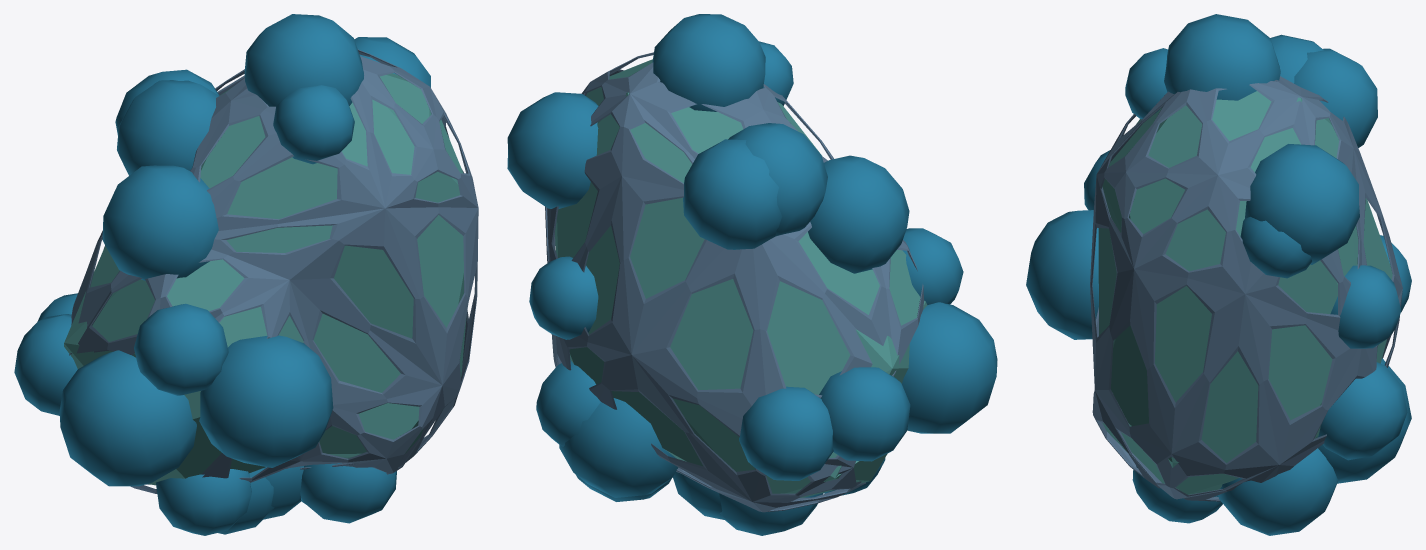
Rendered from glueBush9.fbx.
3 views of the same model, side by side, from view 1: azimuth 30°, elevation 25°; view 2: azimuth 150°, elevation 25°; view 3: azimuth 270°, elevation 25° (orthographic). The views are drawn at different scales.
Visible parts, largest first — view 1: Mball.011; view 2: Mball.011; view 3: Mball.011.
Boxes of the visible parts, box(x1,y1,x2,y2) form: Mball.011: box(14, 14, 478, 535); Mball.011: box(507, 14, 997, 535); Mball.011: box(1026, 14, 1411, 535).
Bounding box in the file's own units: 253 × 286 × 202.
